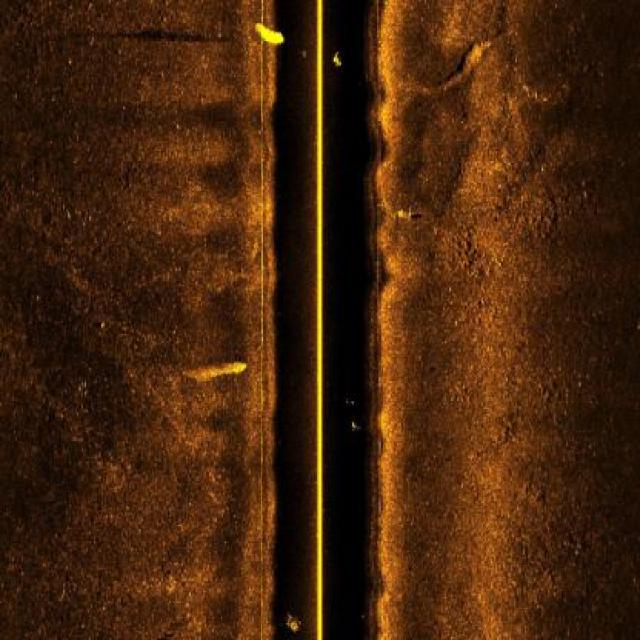mine: (390, 207, 415, 222)
